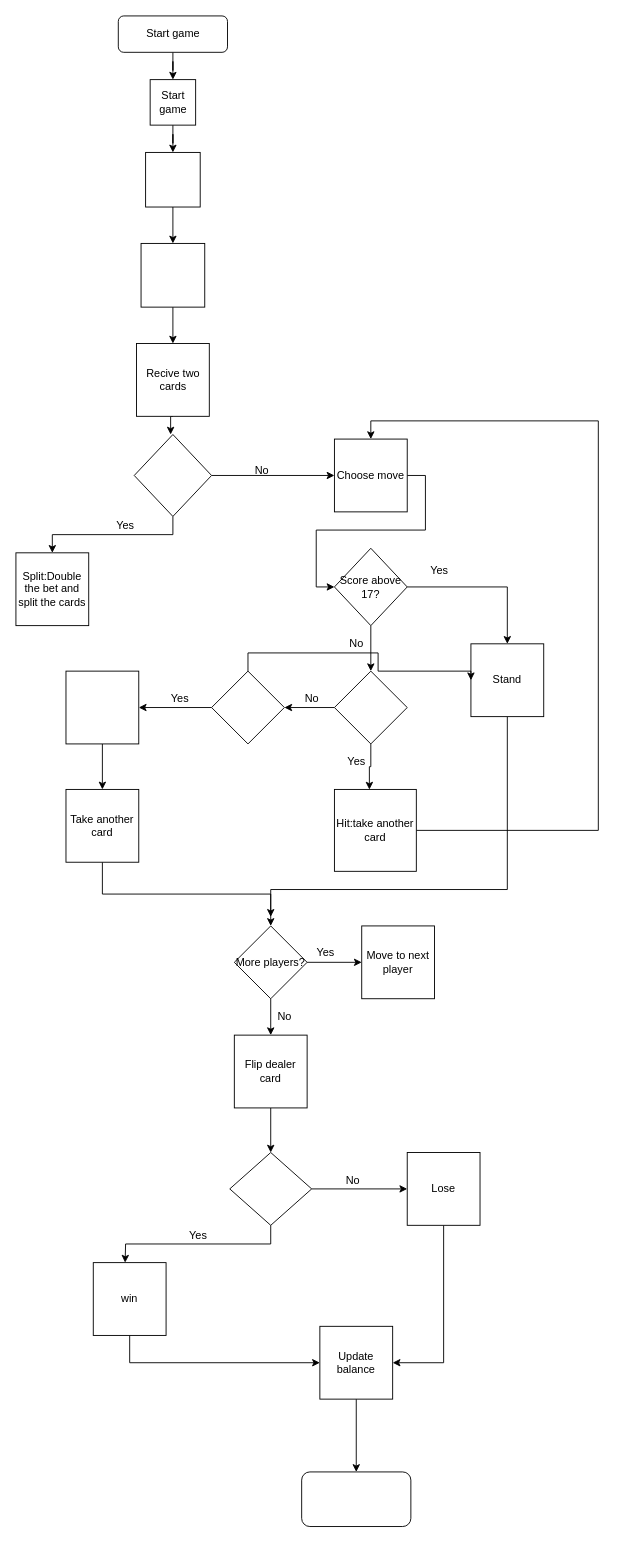
Image size: 622x1542. Some labels were removed from this diagram. Each missing label, with the box of its shape:
Choose room: (145, 152, 200, 207)
Double:double the bet: (65, 670, 139, 744)
Double?: (211, 670, 284, 744)
End round: (301, 1471, 411, 1527)
Higher score than dealer?: (229, 1152, 312, 1225)
Hit?: (334, 670, 407, 744)
Identical cards?: (133, 434, 212, 516)
Place Bet: (140, 243, 205, 307)
